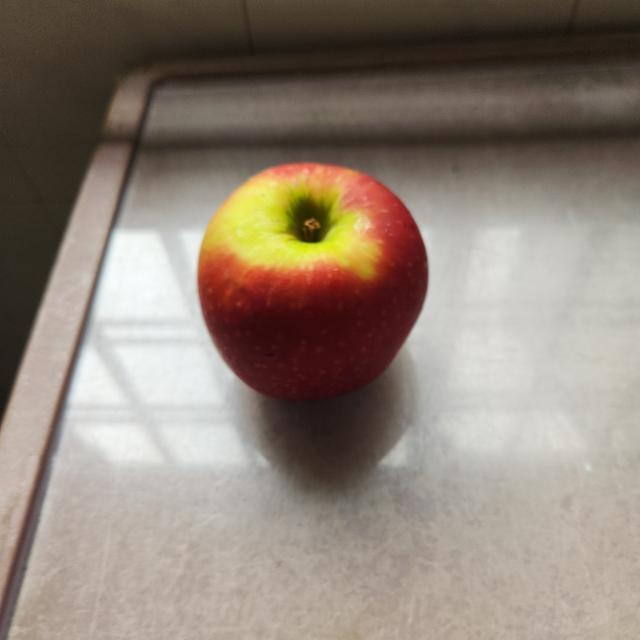apple: (186, 152, 432, 411)
